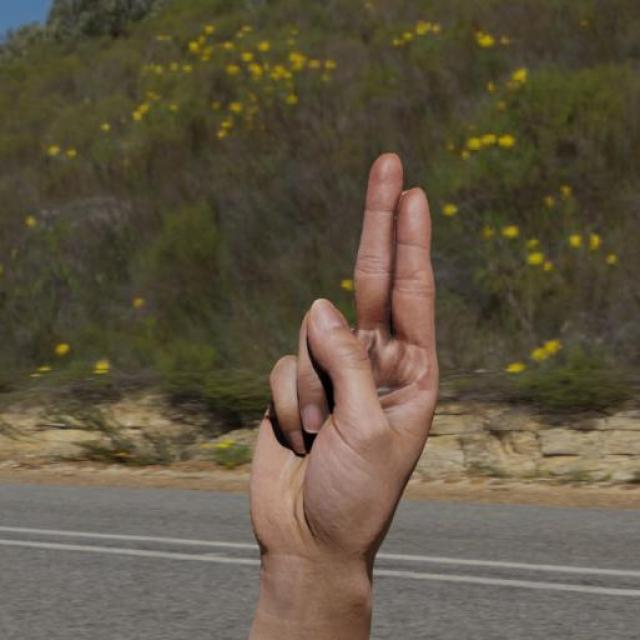U: (240, 144, 444, 566)
